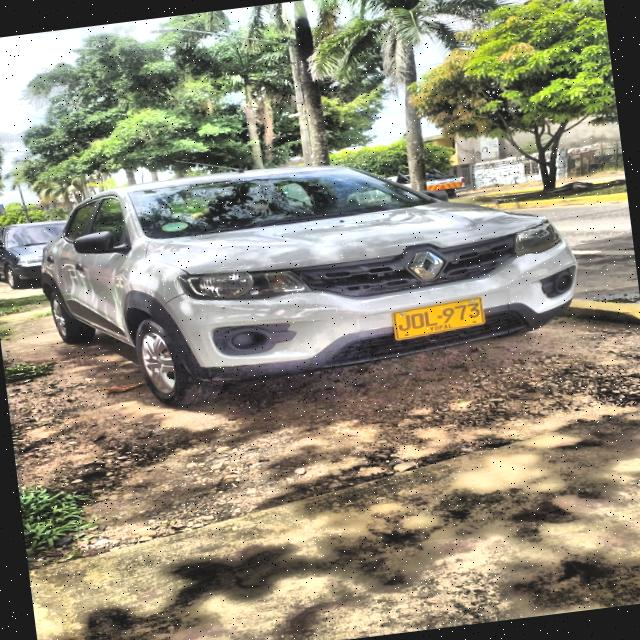3: (466, 302, 481, 319)
7: (453, 304, 467, 321)
9: (440, 306, 455, 324)
J: (396, 313, 412, 332)
L: (423, 310, 439, 327)
O: (410, 311, 425, 330)
